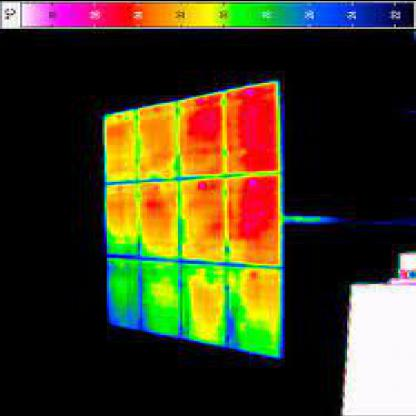Defects: (242, 86, 272, 166), (245, 175, 280, 243)
